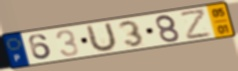3: (118, 19, 146, 48), (55, 29, 80, 57)
6: (28, 34, 53, 61)
8: (155, 14, 181, 44)
U: (86, 21, 119, 54)
Z: (179, 7, 213, 41)
